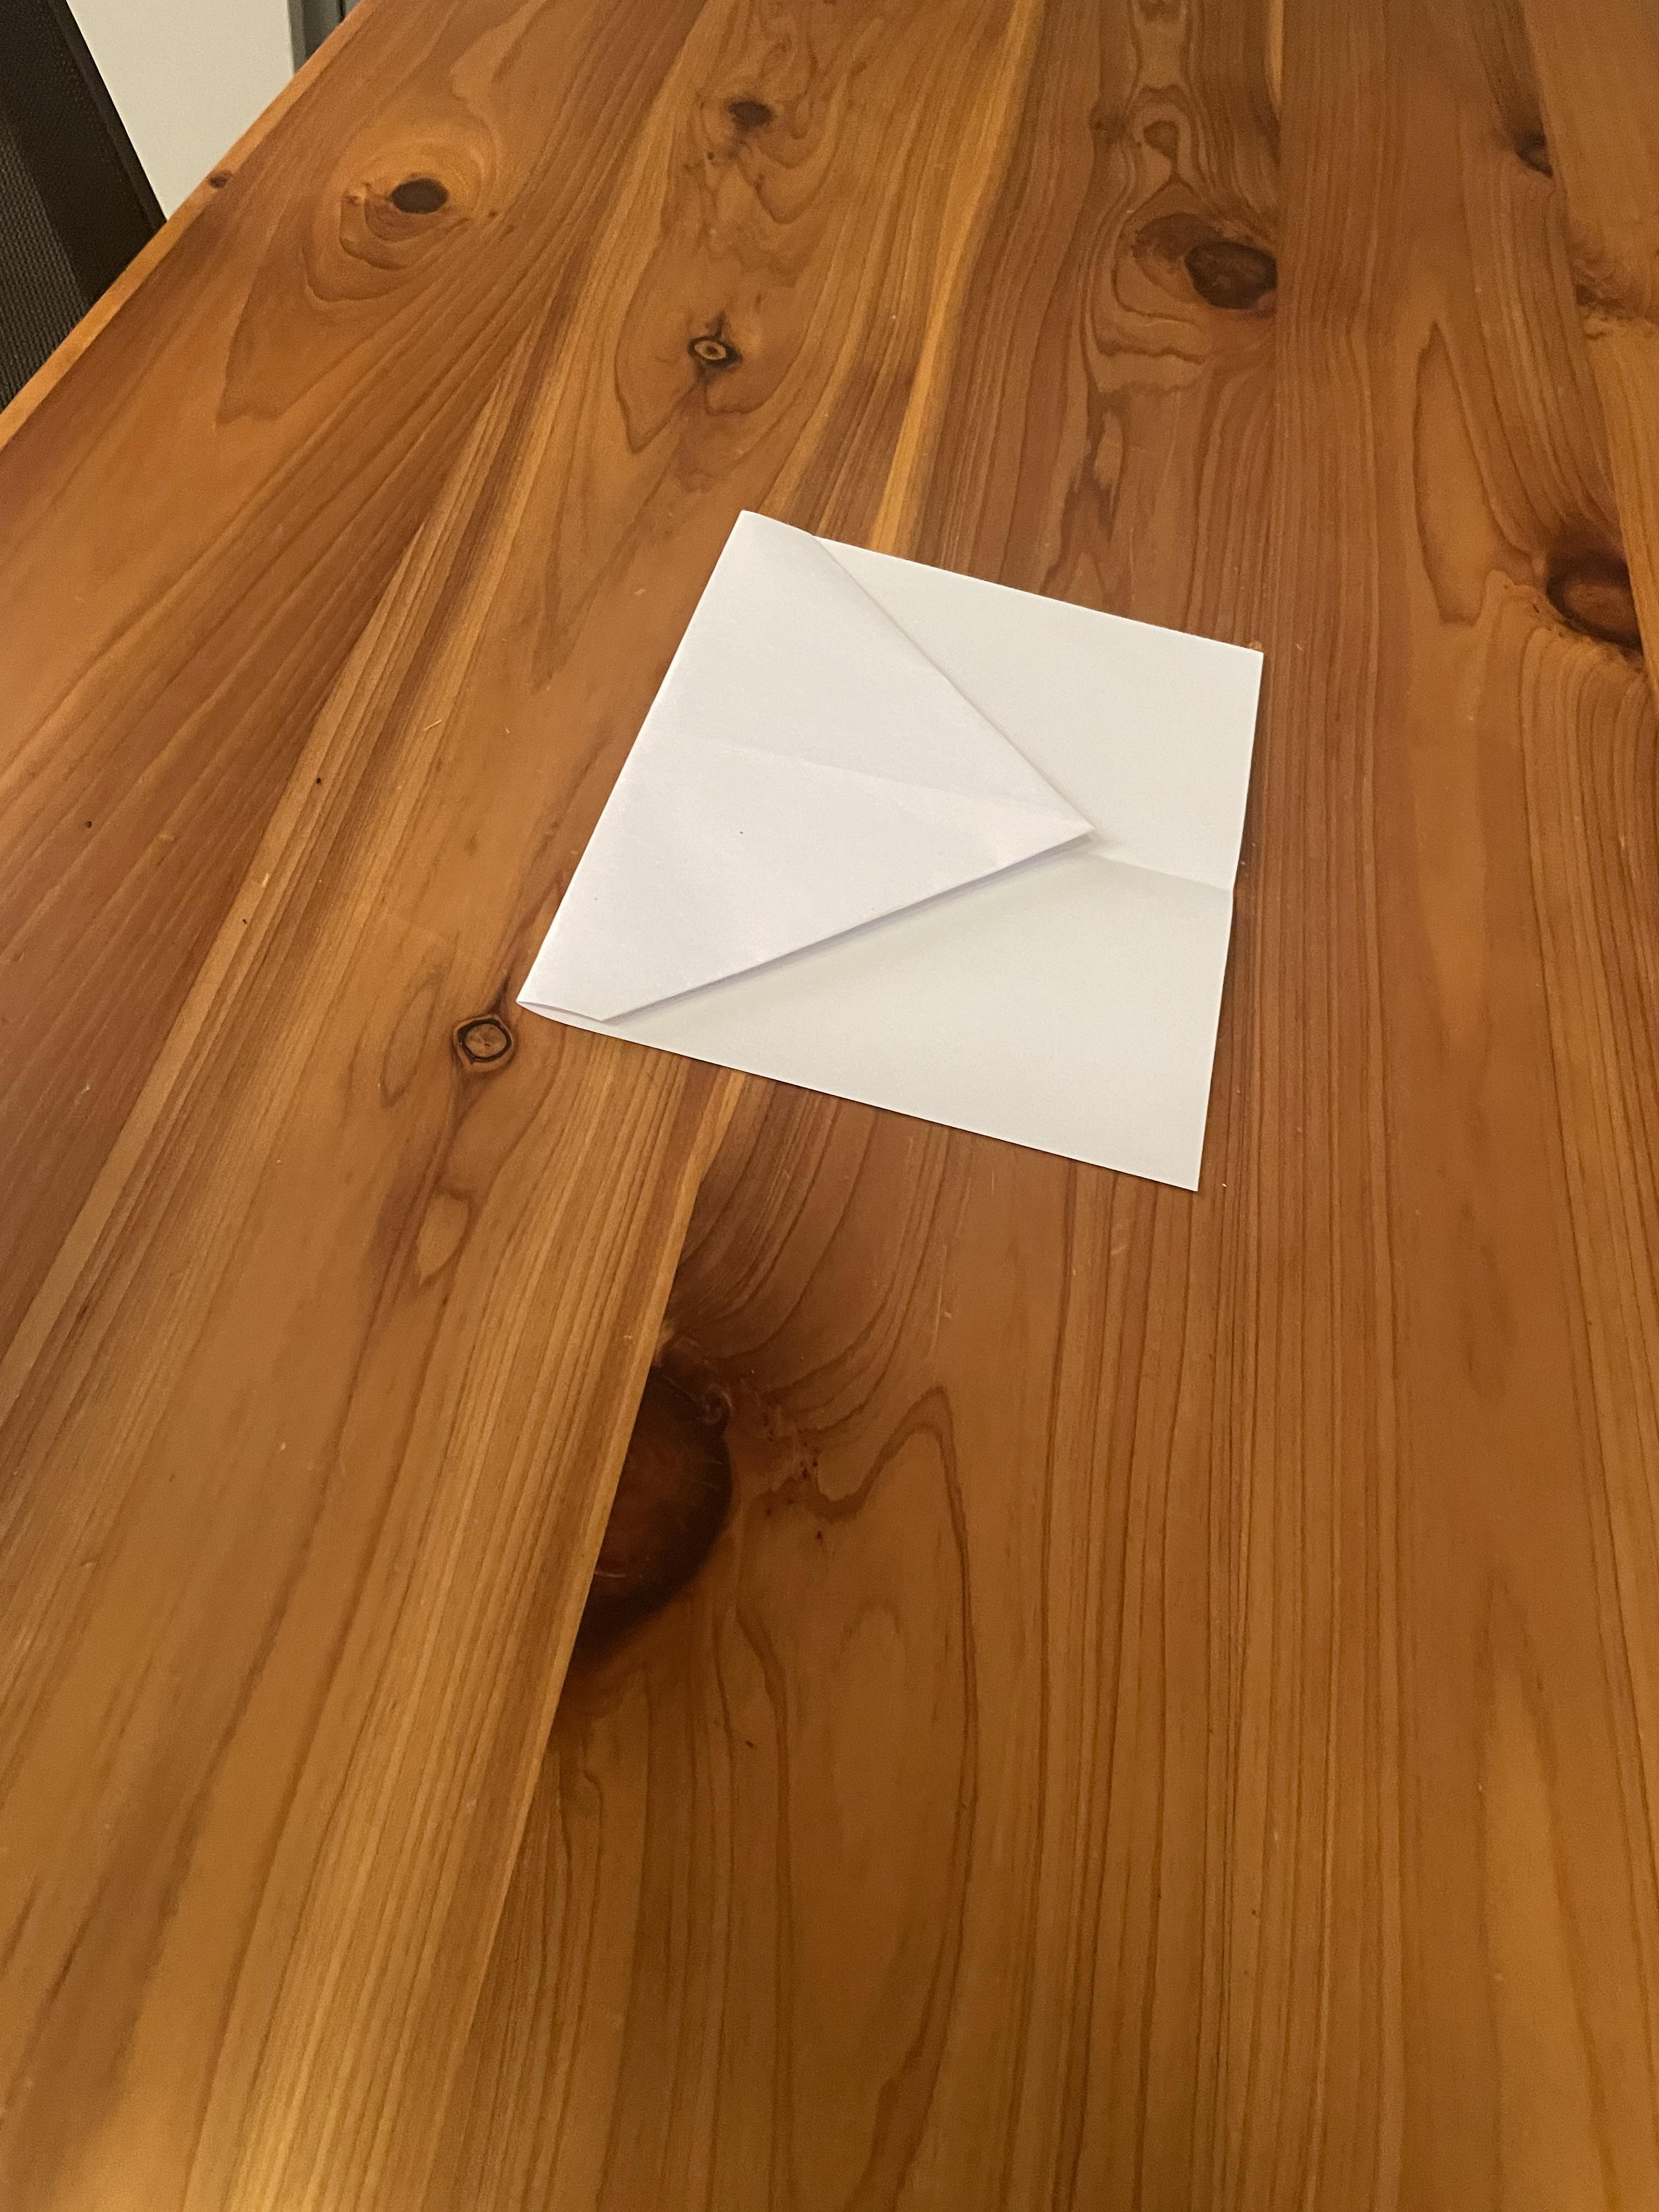shape_1: (411, 402, 1495, 1420)
